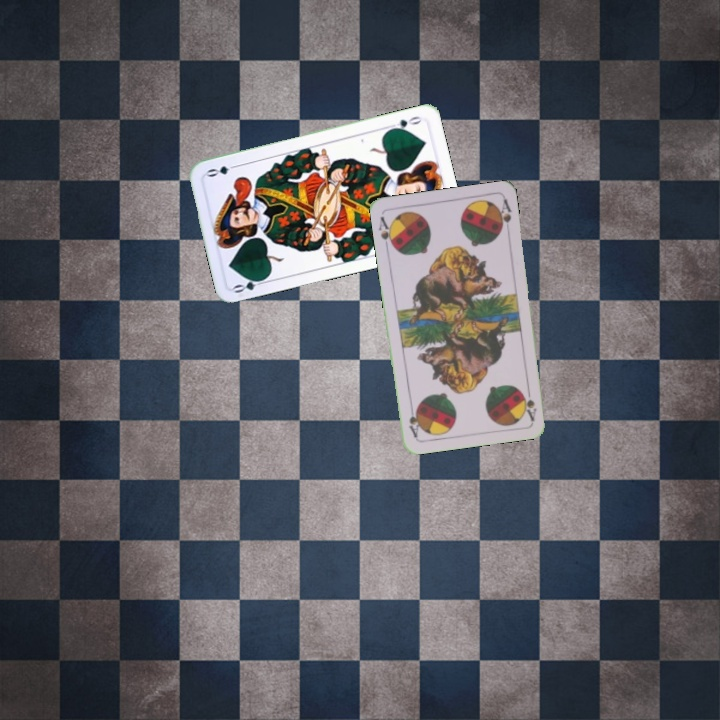GO: (229, 273, 270, 296), (384, 112, 424, 133)
SA: (375, 212, 397, 252), (519, 382, 539, 423)
